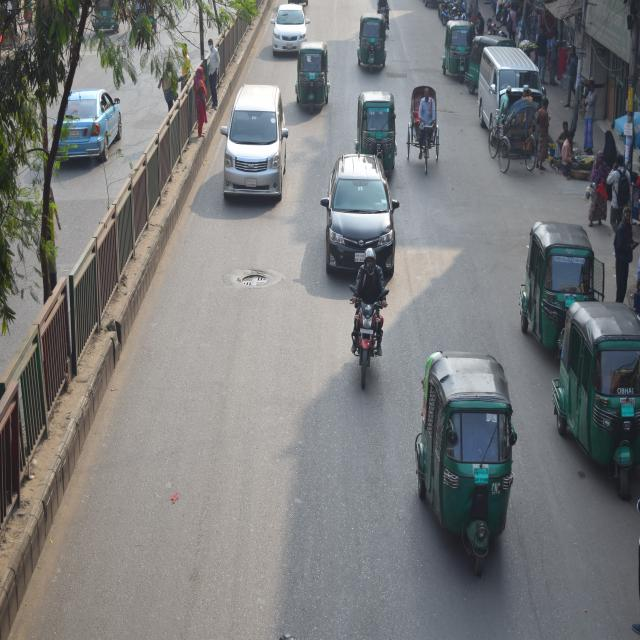car: (325, 145, 393, 263), (57, 86, 120, 170), (271, 1, 307, 59)
microbus: (227, 74, 287, 224), (470, 42, 538, 146)
motorbike: (350, 279, 386, 398)
